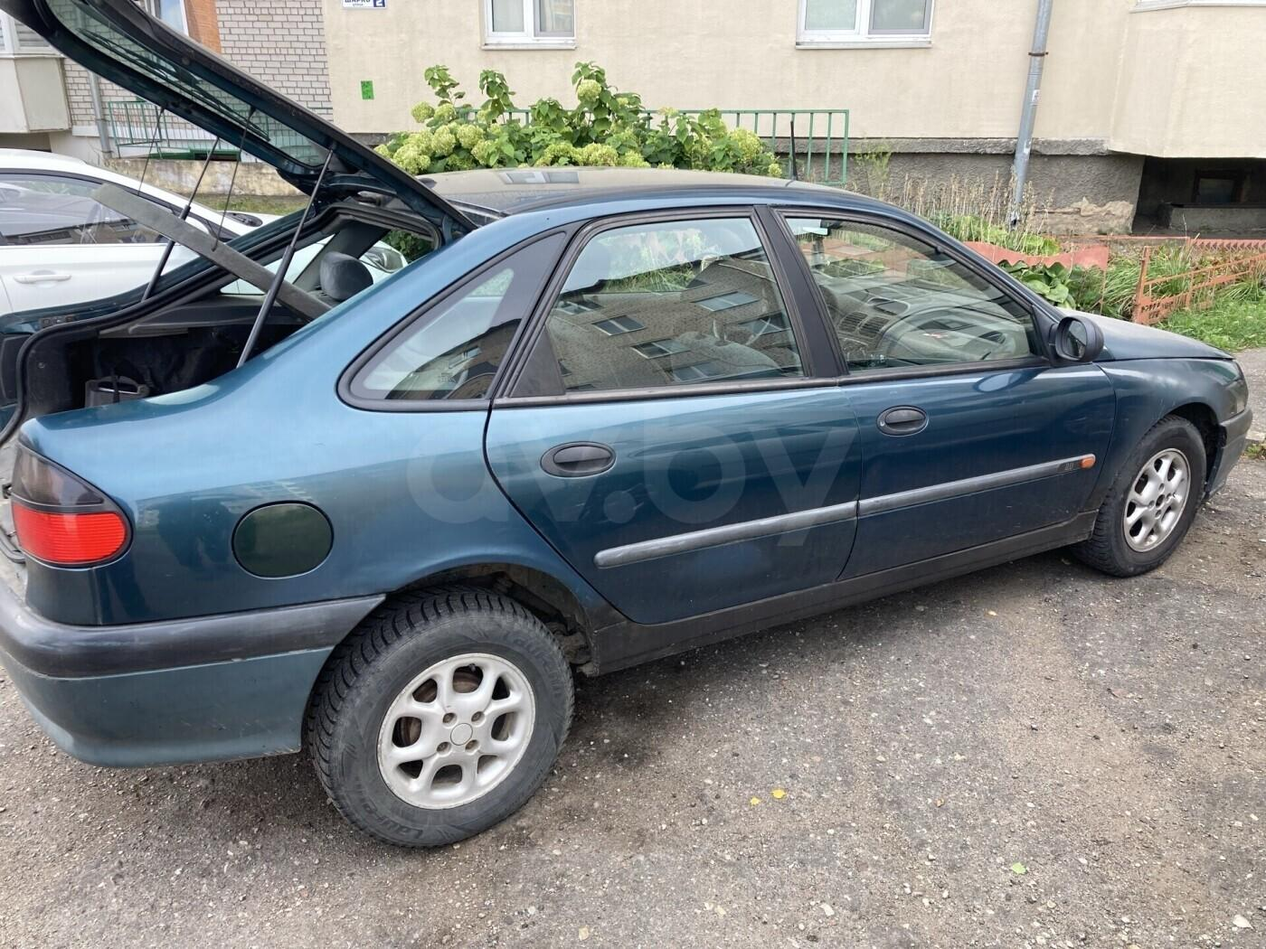Lahuna_1993-1999: (18, 142, 1253, 855)
